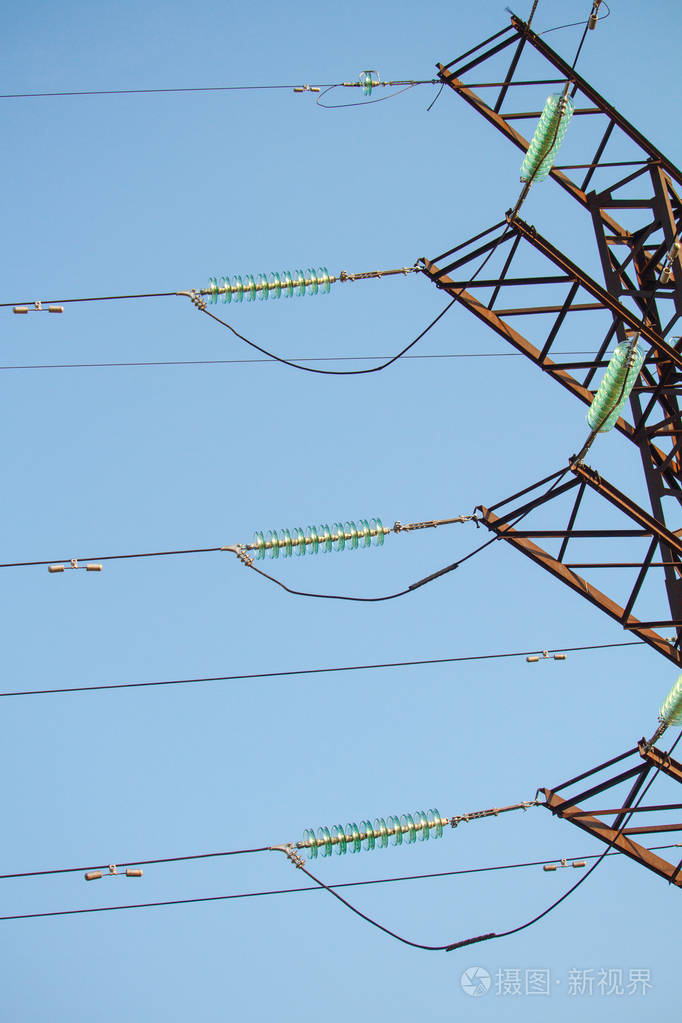insulator: (303, 808, 447, 857), (205, 263, 334, 305), (250, 518, 388, 557), (584, 349, 650, 430), (525, 91, 571, 183)
